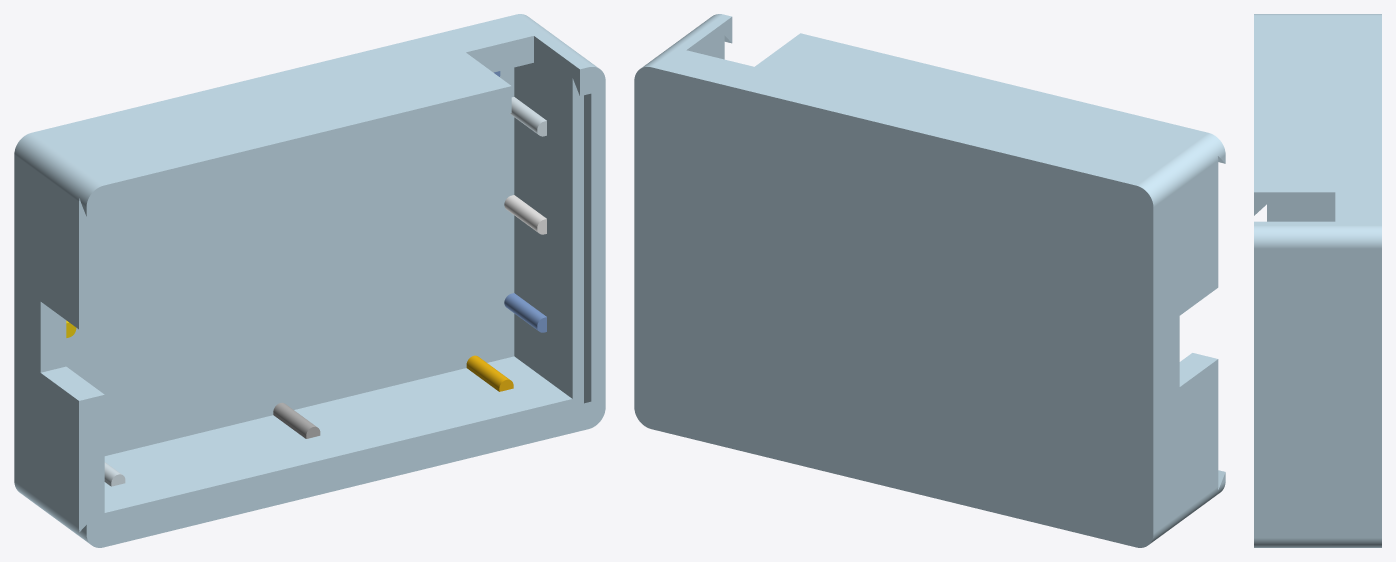
Rendered from casing.glb.
3 renders of one model, left to right at view 1: azimuth 30°, elevation 25°; view 2: azimuth 150°, elevation 25°; view 3: azimuth 270°, elevation 25°, orthographic. The views are drawn at different scales.
Parts seen in each view (by area): view 1: mesh24_mesh_15, mesh24_mesh_6, mesh24_mesh_16, mesh24_mesh_25, mesh24_mesh_17, mesh24_mesh_21, mesh24_mesh_1, mesh24_mesh_23, mesh24_mesh_12, mesh24_mesh_3, mesh24_mesh_24, mesh24_mesh_20 (+2 smaller); view 2: mesh24_mesh_10, mesh24_mesh_6, mesh24_mesh_17, mesh24_mesh_3, mesh24_mesh_21; view 3: mesh24_mesh_8, mesh24_mesh_6, mesh24_mesh_7, mesh24_mesh_4, mesh24_mesh_9, mesh24_mesh_18, mesh24_mesh_3.
Boxes of the visible parts, x1,y1,x2,y2 form: mesh24_mesh_15: (66,67,514,455); mesh24_mesh_6: (31,14,587,185); mesh24_mesh_16: (104,356,571,512); mesh24_mesh_25: (86,67,605,547); mesh24_mesh_17: (14,155,78,527); mesh24_mesh_21: (514,36,579,398); mesh24_mesh_1: (86,86,511,216); mesh24_mesh_23: (79,78,583,532); mesh24_mesh_12: (79,198,104,329); mesh24_mesh_3: (14,133,102,207); mesh24_mesh_24: (584,93,591,403); mesh24_mesh_20: (40,302,66,372); mesh24_mesh_10: (634,67,1153,547); mesh24_mesh_6: (652,14,1208,185); mesh24_mesh_17: (1153,160,1218,533); mesh24_mesh_3: (1137,133,1225,207); mesh24_mesh_21: (686,17,732,59); mesh24_mesh_8: (1254,248,1381,537); mesh24_mesh_6: (1254,15,1381,225); mesh24_mesh_7: (1254,225,1381,248); mesh24_mesh_4: (1254,192,1335,215); mesh24_mesh_9: (1254,538,1381,547); mesh24_mesh_18: (1267,216,1335,221); mesh24_mesh_3: (1254,14,1381,15).
Size of the model in its own units: 0.0914 by 0.0608 by 0.022.
